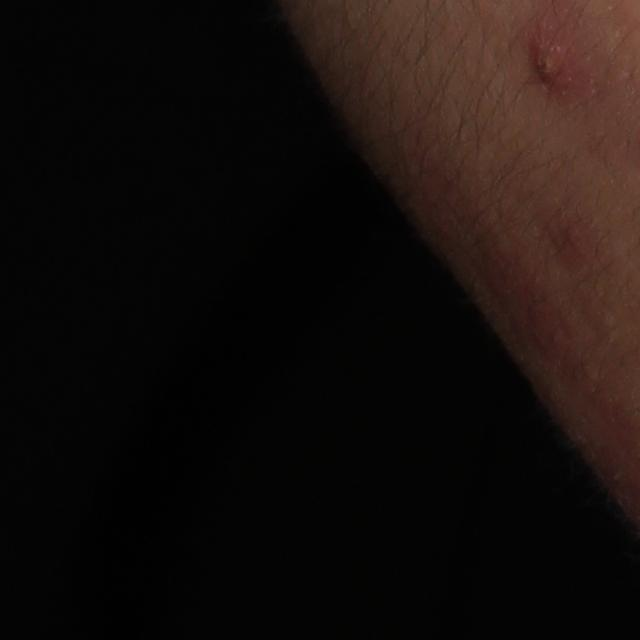papule: (521, 27, 574, 92)
